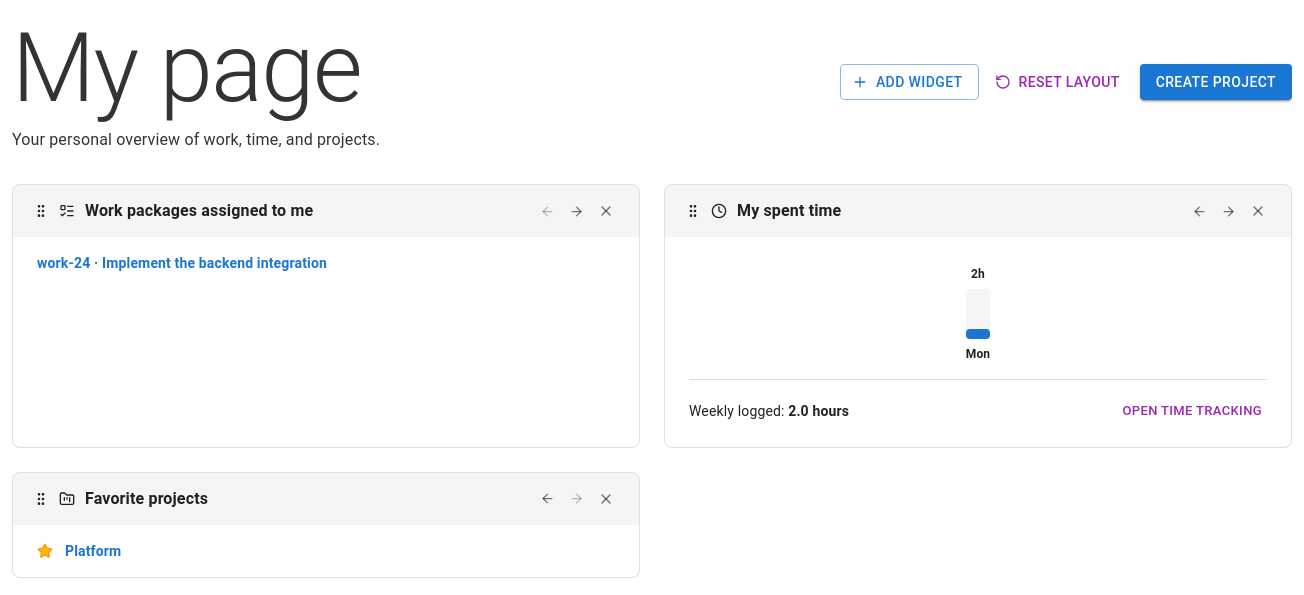
Test case: MyPageDashboard › supports keyboard-friendly widget ordering and removal
Expected: the heading "My page" is shown, [12,12,380,124]
Click the button named "Move My spent time earlier" at (1200, 211), box [1187,198,1212,224]
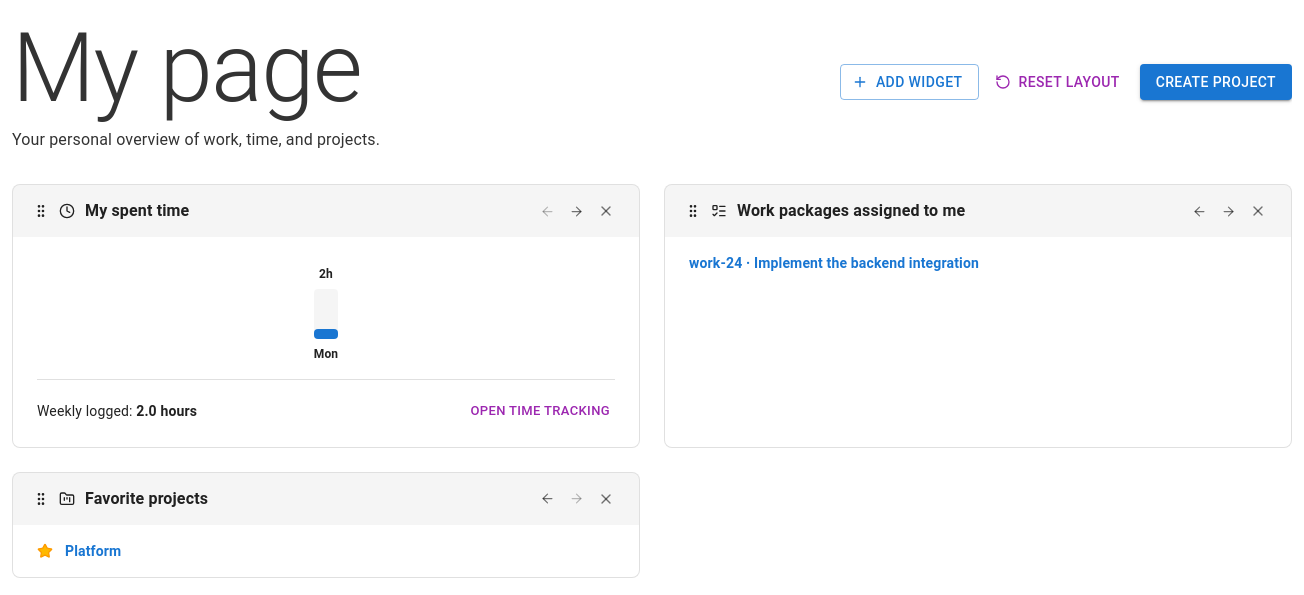
Click the button named "Remove My spent time widget" at (606, 211), box [593,198,619,224]
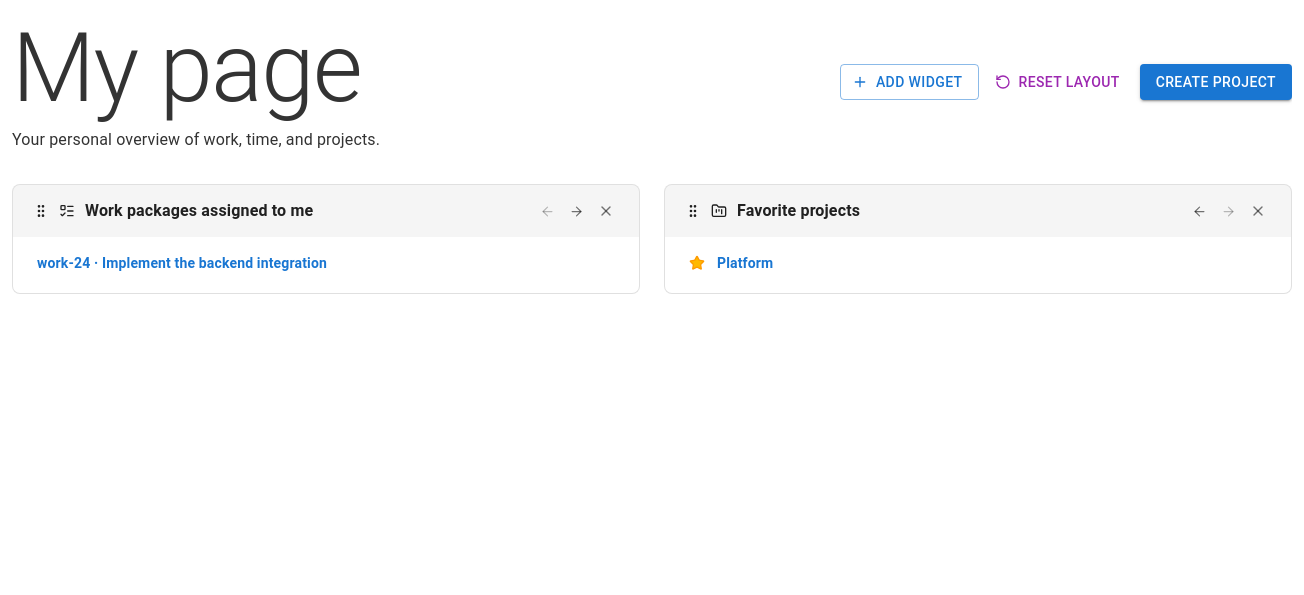
Now the heading "My spent time" is gone
